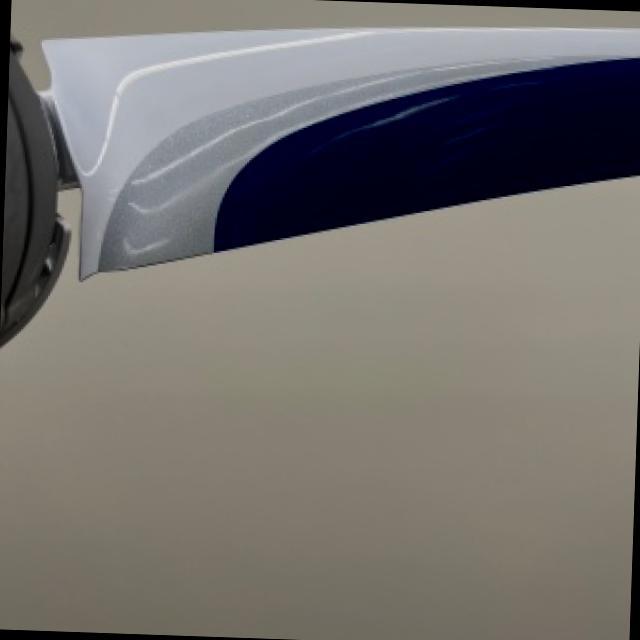healthy: (40, 26, 640, 273)
